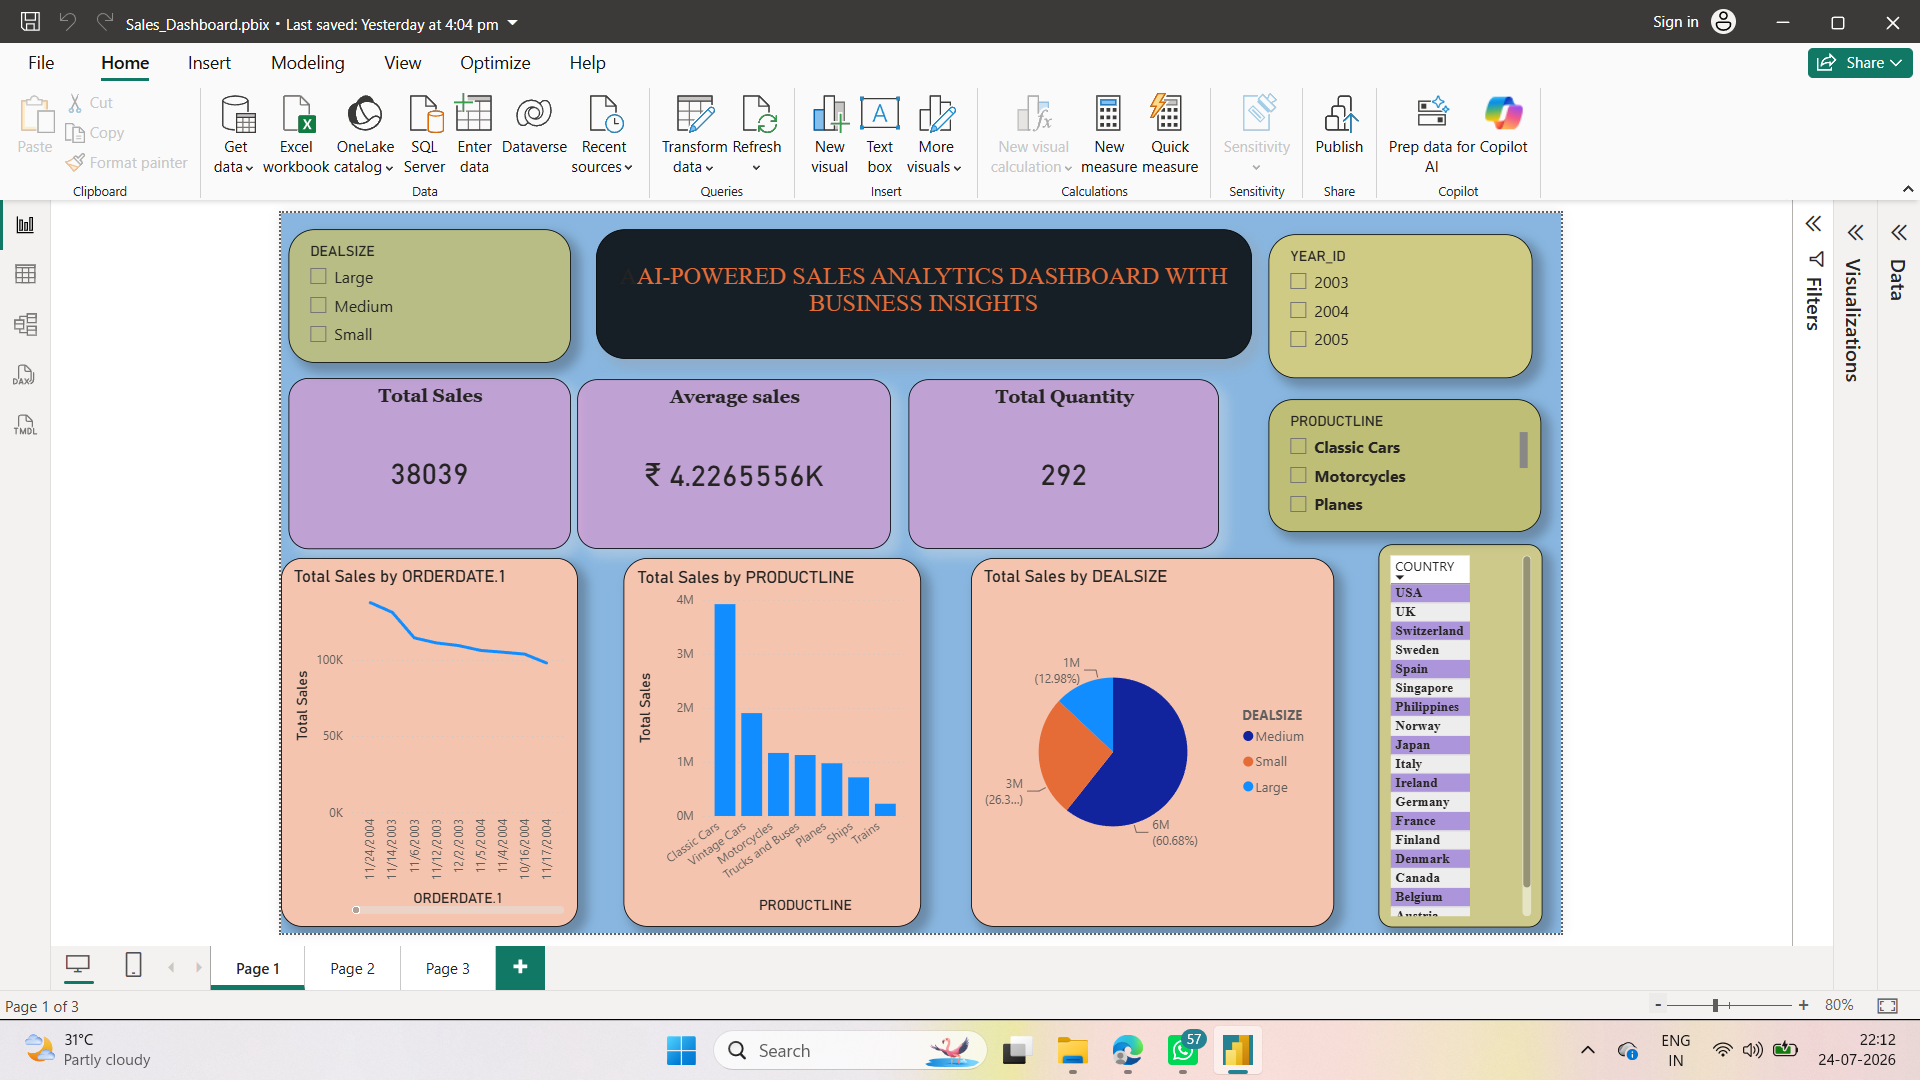

The dashboard page shown, as its layout file describes it:
{"tool":"powerbi","page":{"name":"Page 1","canvas":[1280,720],"ordinal":0},"visuals":[{"type":"kpi","title":"Total Sales ","fields":{"Indicator":["sales_data_sample (3).Total Sales"],"TrendLine":["sales_data_sample (3).ORDERDATE.1"]},"box":[7.1,165.3,282.2,171],"z":0},{"type":"kpi","title":"Total Quantity","fields":{"Indicator":["sales_data_sample (3).Total quantity"],"TrendLine":["sales_data_sample (3).ORDERDATE.1"]},"box":[627.2,166.8,310.7,169.6],"z":1000},{"type":"kpi","title":"Average sales","fields":{"Indicator":["sales_data_sample (3).Average sales"],"TrendLine":["sales_data_sample (3).ORDERDATE.1"]},"box":[296.5,166.8,313.6,169.6],"z":2000},{"type":"lineChart","fields":{"Y":["sales_data_sample (3).Total Sales"],"Category":["sales_data_sample (3).ORDERDATE.1"]},"box":[0,344.9,296.5,369.2],"z":3000},{"type":"clusteredColumnChart","fields":{"Category":["sales_data_sample (3).PRODUCTLINE"],"Y":["sales_data_sample (3).Total Sales"]},"box":[342.1,344.9,297.9,369.2],"z":4000},{"type":"pieChart","fields":{"Category":["sales_data_sample (3).DEALSIZE"],"Y":["sales_data_sample (3).Total Sales"]},"box":[689.9,344.9,363.5,369.2],"z":5000},{"type":"slicer","fields":{"Values":["sales_data_sample (3).YEAR_ID"]},"box":[987.8,21.4,263.7,144],"z":6000},{"type":"tableEx","fields":{"Values":["sales_data_sample (3).COUNTRY"]},"box":[1097.6,330.7,163.9,383.4],"z":7000},{"type":"slicer","fields":{"Values":["sales_data_sample (3).PRODUCTLINE"]},"box":[988,186.6,273.1,133.1],"z":8000},{"type":"textbox","box":[315,15.7,655.7,129.7],"z":9000},{"type":"slicer","fields":{"Values":["sales_data_sample (3).DEALSIZE"]},"box":[7.1,15.7,282.2,134],"z":10000}]}

Visuals, with their boxes on the page's 1280x720 design canvas (x1, y1, x2, y2). These are canvas units, not pixel positions in the 1920x1080 screenshot, which may show the page scaled, cropped or inside an application window:
"Total Sales " kpi: locate(7, 165, 289, 336)
"Total Quantity" kpi: locate(627, 167, 938, 336)
"Average sales" kpi: locate(296, 167, 610, 336)
lineChart - sales_data_sample (3).Total Sales x sales_data_sample (3).ORDERDATE.1: locate(0, 345, 296, 714)
clusteredColumnChart - sales_data_sample (3).PRODUCTLINE x sales_data_sample (3).Total Sales: locate(342, 345, 640, 714)
pieChart - sales_data_sample (3).DEALSIZE x sales_data_sample (3).Total Sales: locate(690, 345, 1053, 714)
slicer - sales_data_sample (3).YEAR_ID: locate(988, 21, 1252, 165)
tableEx - sales_data_sample (3).COUNTRY: locate(1098, 331, 1262, 714)
slicer - sales_data_sample (3).PRODUCTLINE: locate(988, 187, 1261, 320)
textbox: locate(315, 16, 971, 145)
slicer - sales_data_sample (3).DEALSIZE: locate(7, 16, 289, 150)
